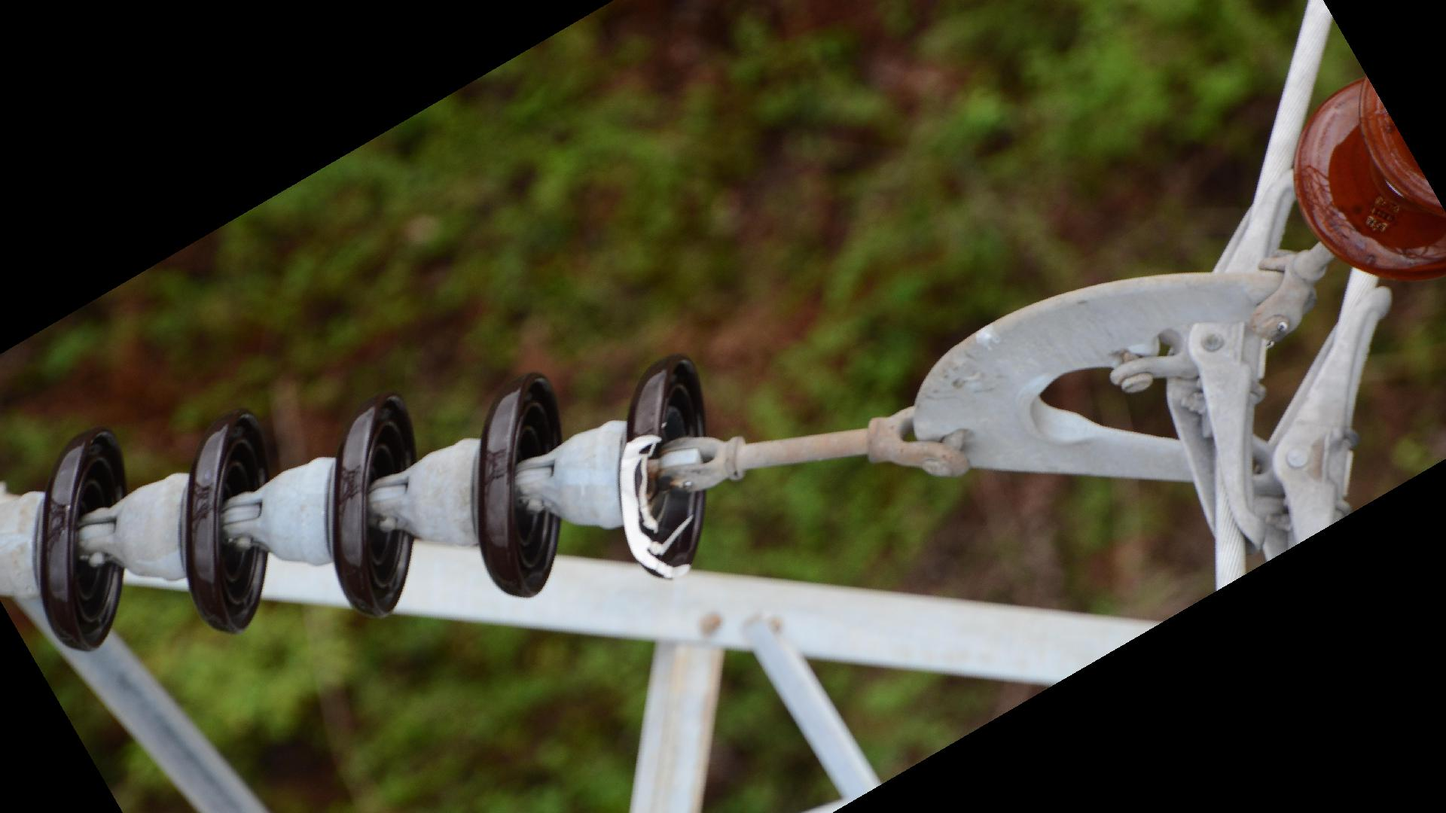insulator: (1, 348, 713, 658), (1285, 75, 1446, 294)
insulator_breakage: (611, 428, 697, 583)
